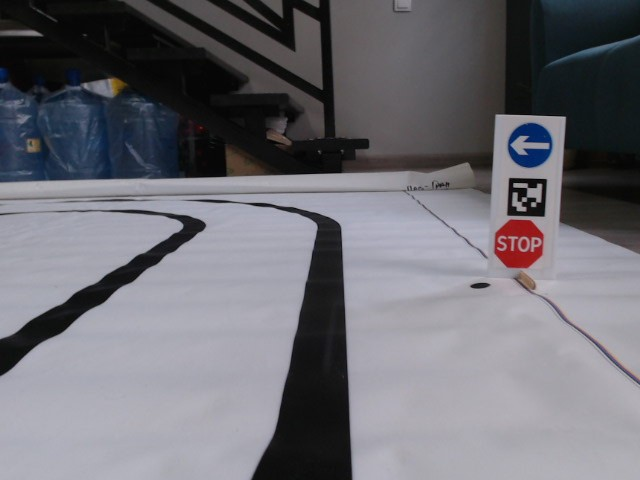Stop: (492, 218, 545, 271)
